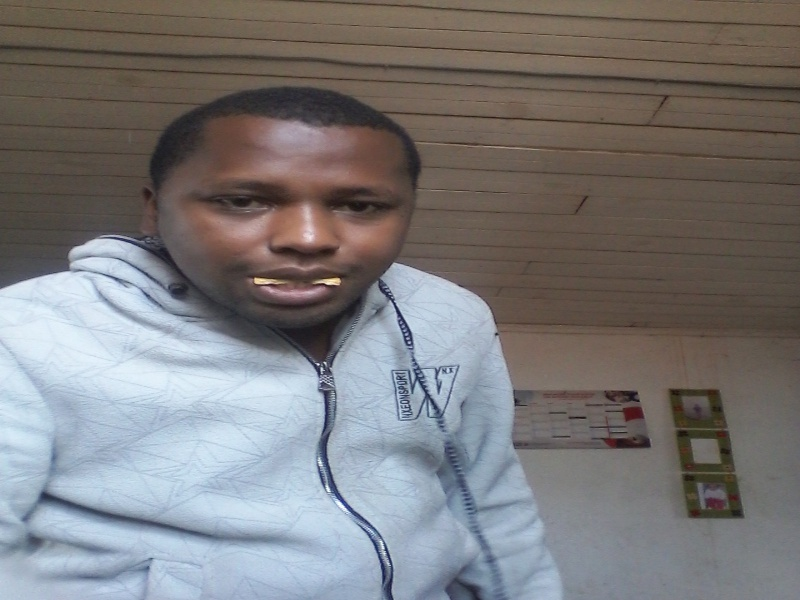TsisyArotava: (130, 95, 429, 337)
